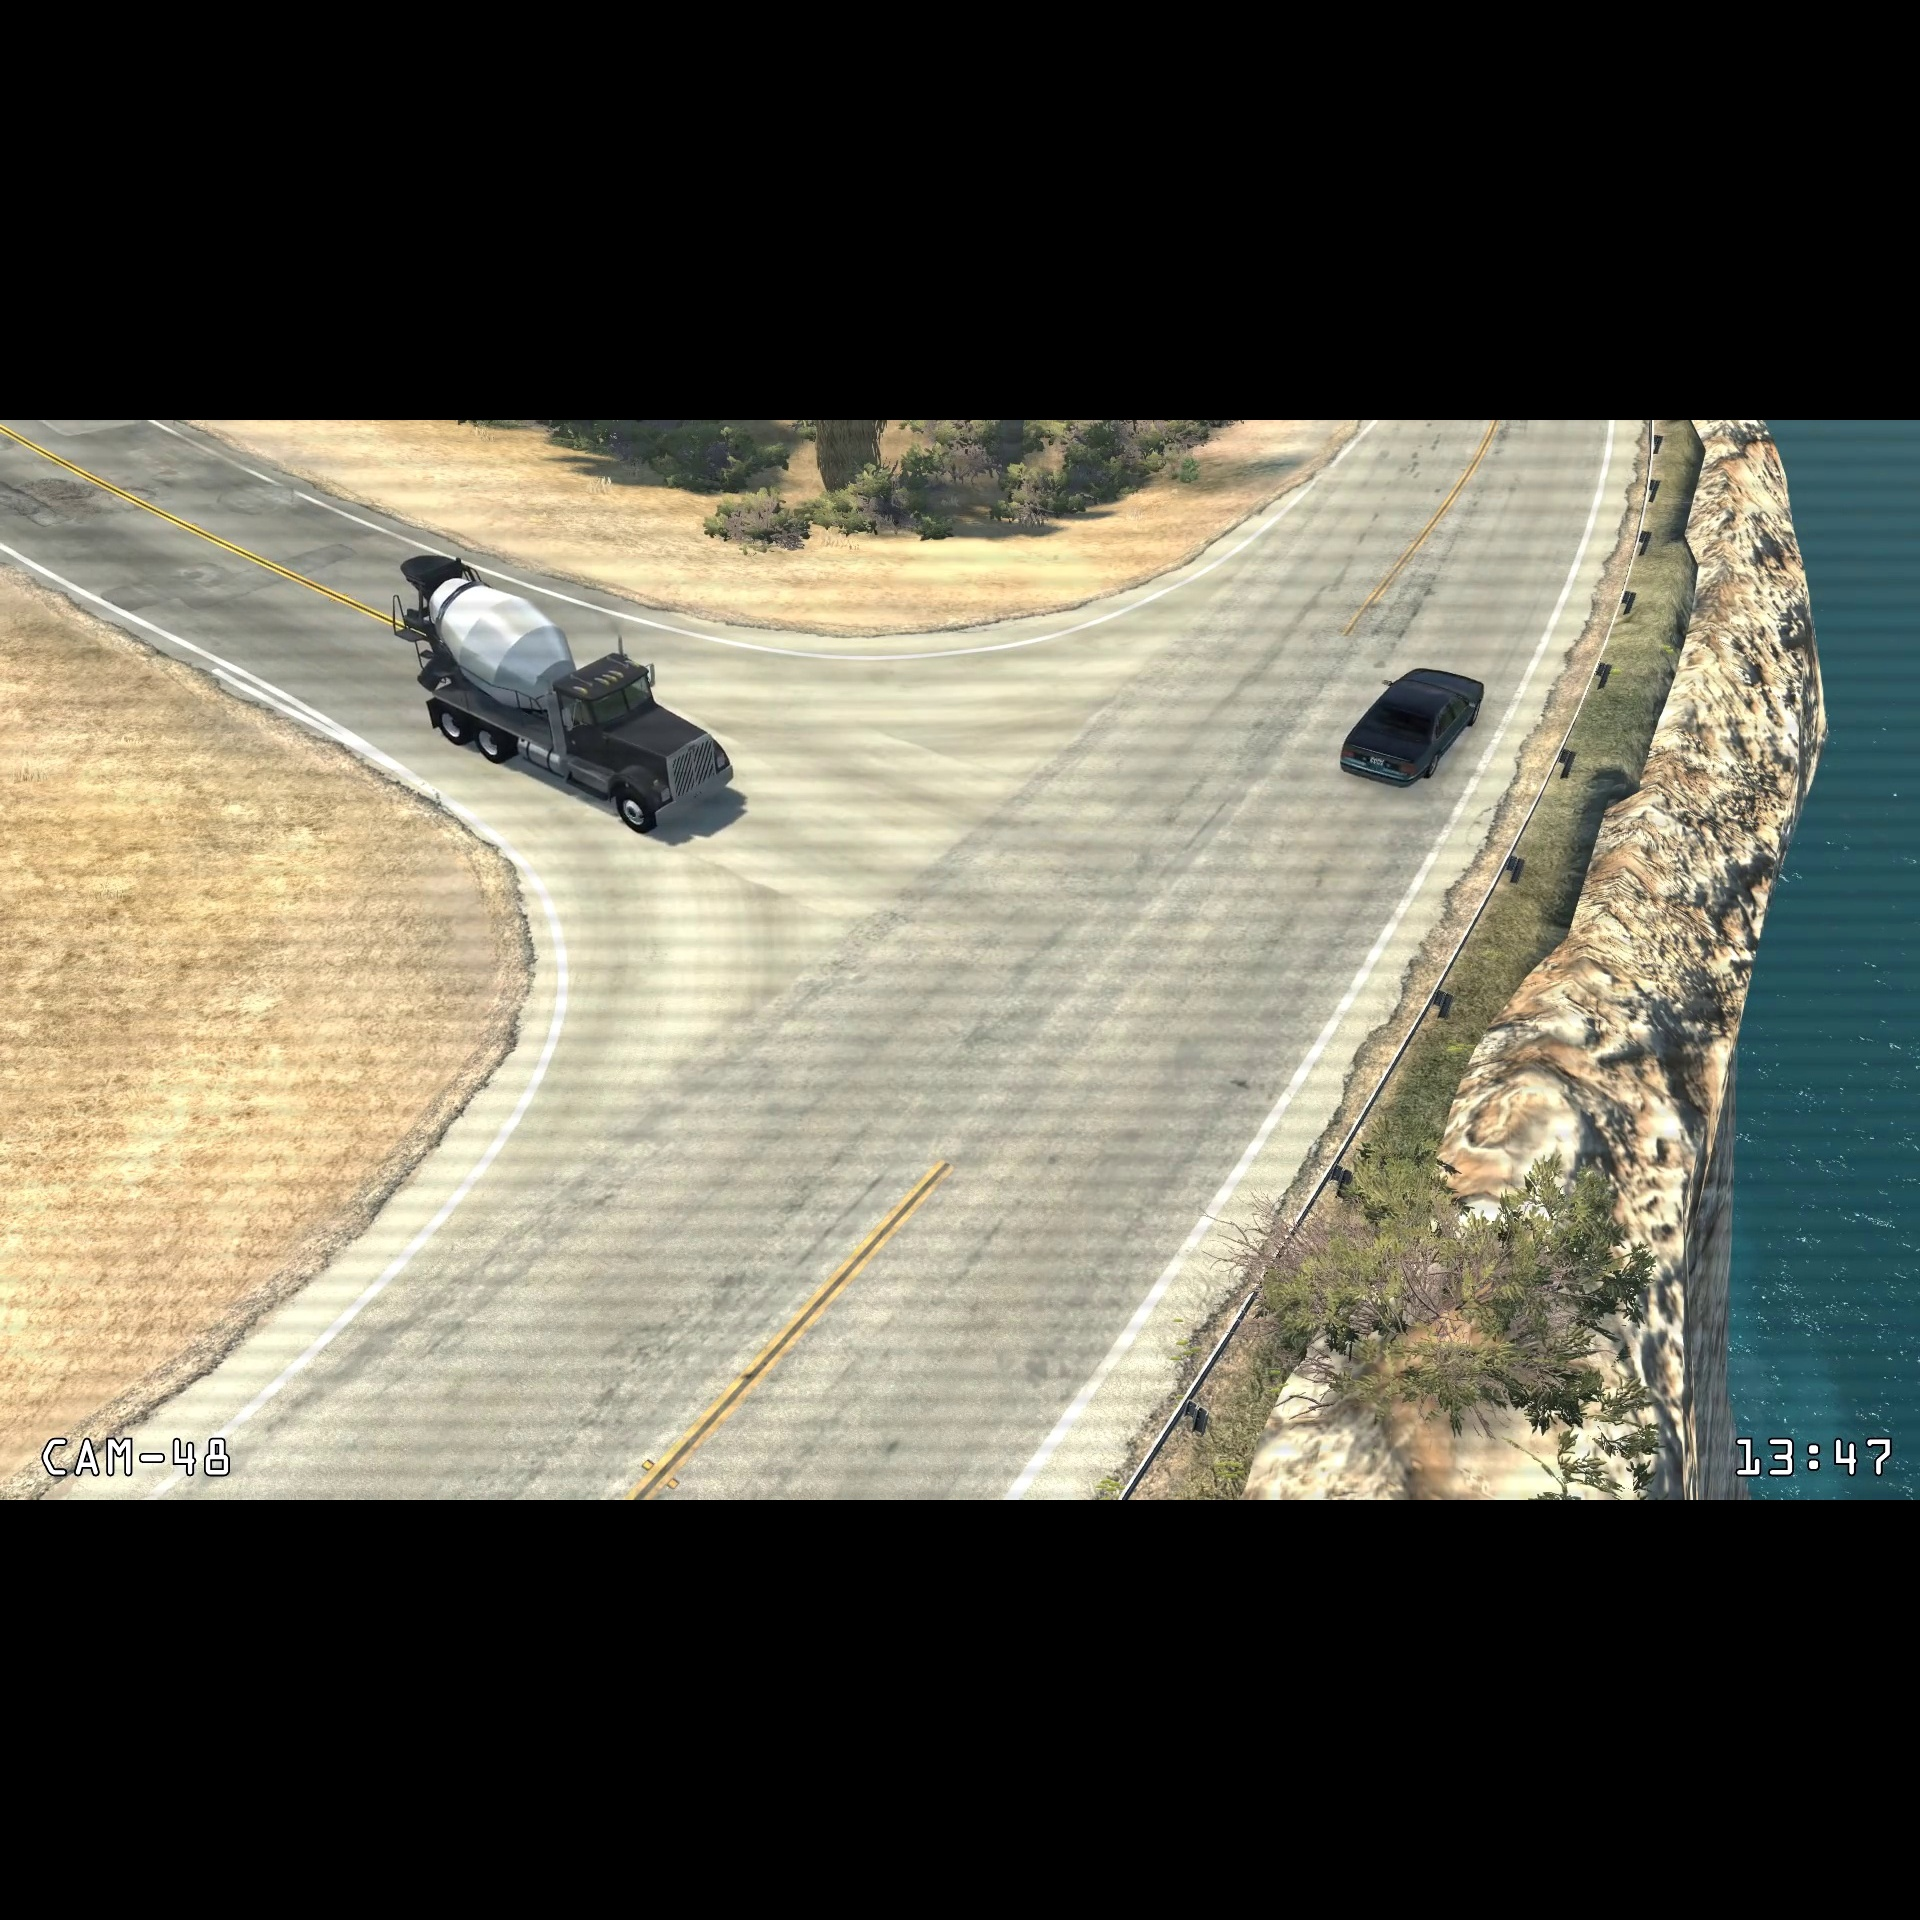vehicle: (382, 545, 747, 839), (1333, 659, 1493, 795)
